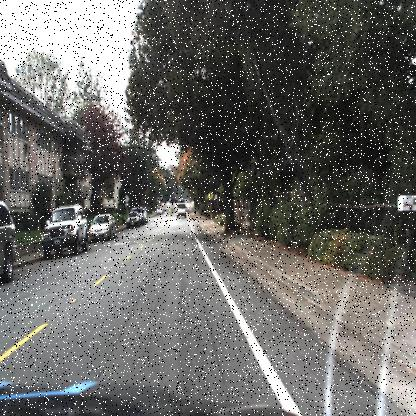car: (40, 202, 89, 260), (41, 200, 91, 256), (0, 192, 19, 291), (88, 213, 116, 243), (174, 198, 188, 221), (125, 209, 140, 227)
